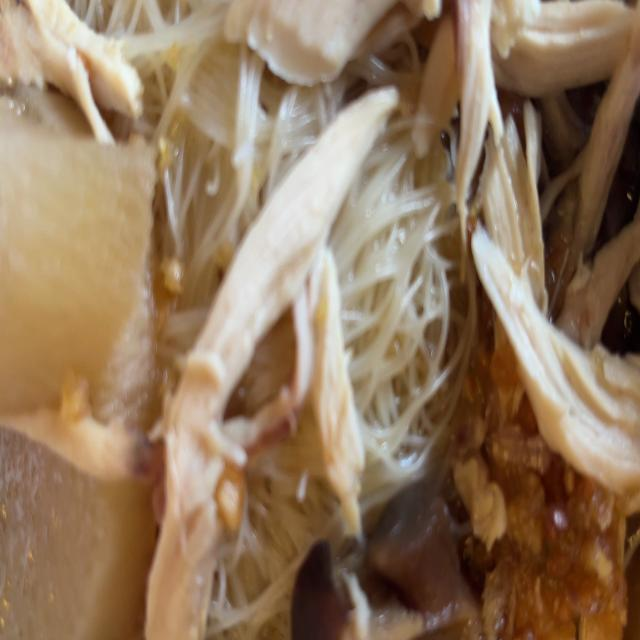chicken_shredded: (177, 81, 401, 475), (452, 0, 640, 318), (468, 230, 640, 476), (298, 245, 372, 495), (0, 0, 134, 131), (205, 0, 397, 79)
daikon_radish: (0, 128, 155, 404), (0, 422, 140, 632)
noodle: (0, 0, 640, 640)
